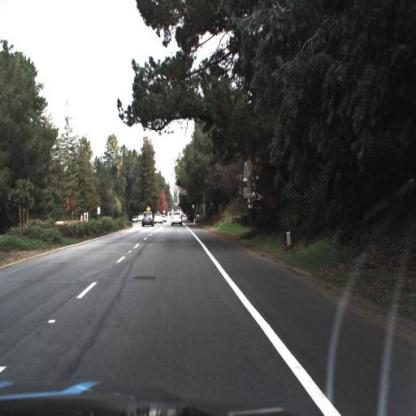car: (139, 209, 158, 231), (170, 208, 186, 230), (154, 210, 165, 228)
